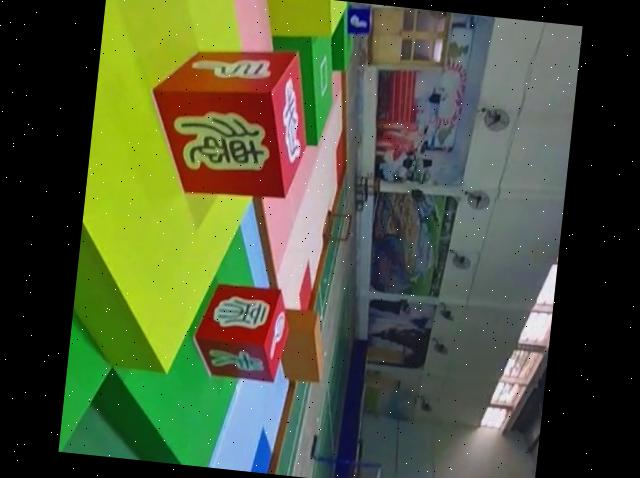R2 Fake: (139, 35, 314, 206), (188, 282, 293, 385)
